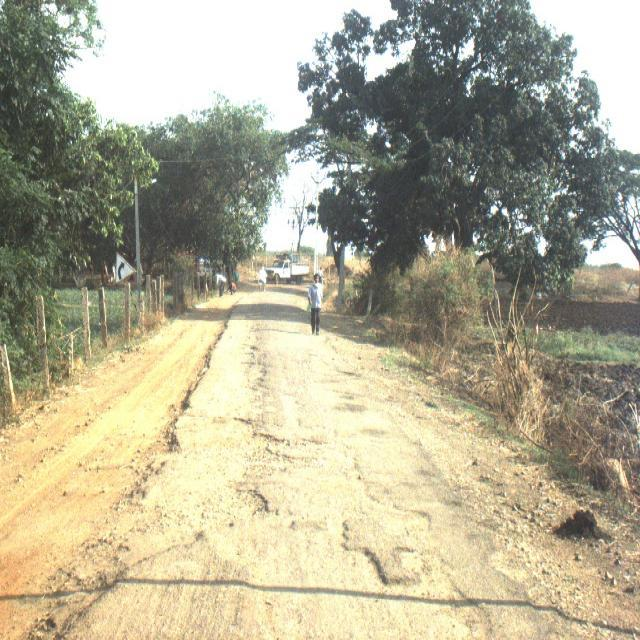pothole: (331, 494, 518, 640), (304, 404, 427, 487), (207, 447, 297, 547), (64, 545, 158, 634), (248, 303, 296, 438)
